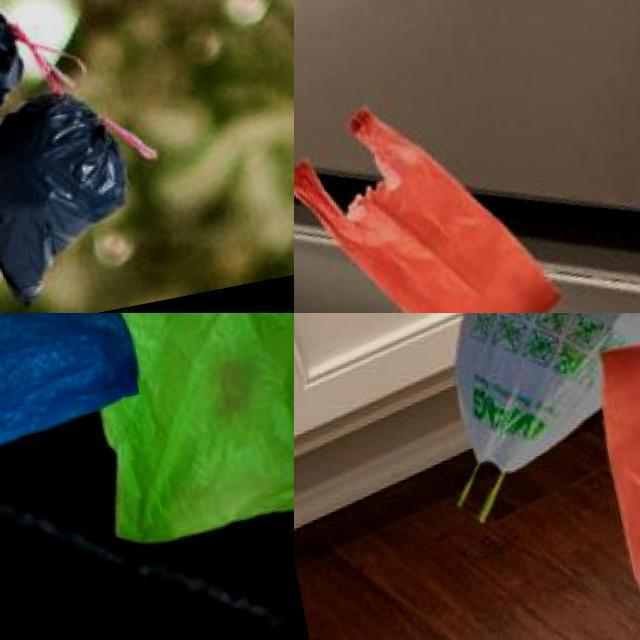waste: (294, 68, 610, 313), (44, 313, 294, 562), (409, 313, 640, 490), (0, 91, 159, 313), (0, 313, 149, 458), (599, 313, 640, 640)
